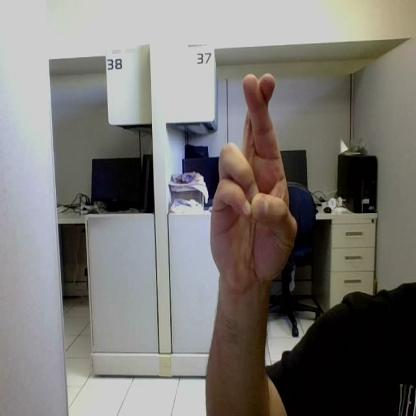R: (210, 75, 296, 286)
